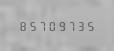eight: (17, 20, 26, 31)
five: (27, 20, 36, 31), (87, 20, 96, 31)
nine: (57, 20, 66, 31)
seven: (37, 20, 46, 31), (67, 20, 76, 31)
three: (77, 20, 86, 31)
zero: (47, 20, 56, 31)
